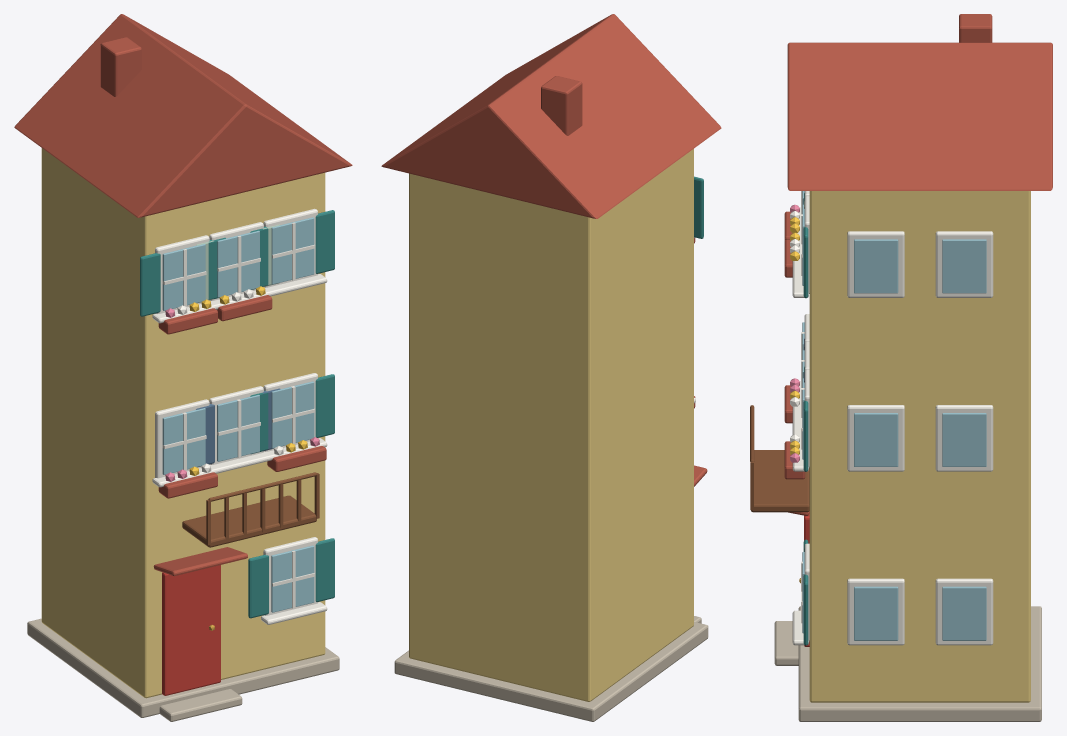
File: house_d.glb
3 renders of one model, left to right at view 1: azimuth 30°, elevation 25°; view 2: azimuth 150°, elevation 25°; view 3: azimuth 270°, elevation 25°, orthographic. The views are drawn at different scales.
Visible parts, largest first — view 1: house_d; view 2: house_d; view 3: house_d.
Part boxes in pixels (x1,y1,x2,y2): house_d: [14, 14, 352, 721]; house_d: [381, 14, 721, 721]; house_d: [750, 14, 1052, 721].
Bounding box in the file's own units: 3.57 × 9.47 × 4.11.
